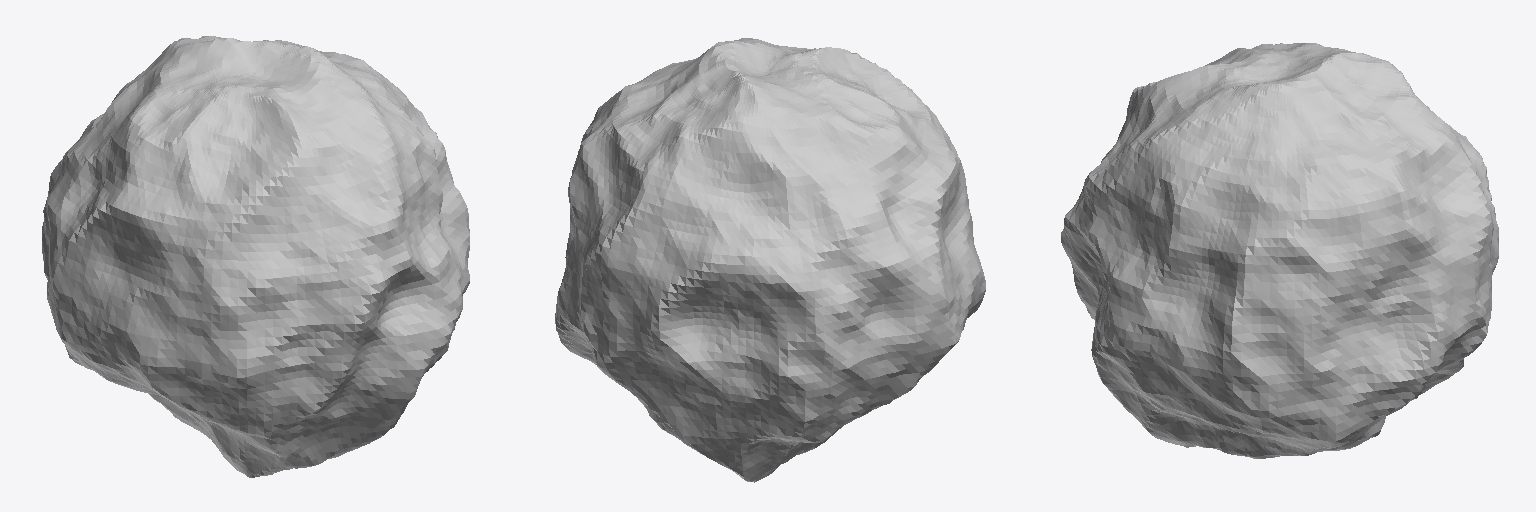
Rendered from SphTer_04.obj.
3 renders of one model, left to right at view 1: azimuth 30°, elevation 25°; view 2: azimuth 150°, elevation 25°; view 3: azimuth 270°, elevation 25°, orthographic.
Visible parts, largest first — view 1: Landscape; view 2: Landscape; view 3: Landscape.
Part boxes in pixels (left/top/right/bottom): Landscape: left=42, top=36, right=469, bottom=477; Landscape: left=555, top=38, right=985, bottom=482; Landscape: left=1061, top=43, right=1498, bottom=458.
Size of the model in its own units: 772 by 769 by 768.